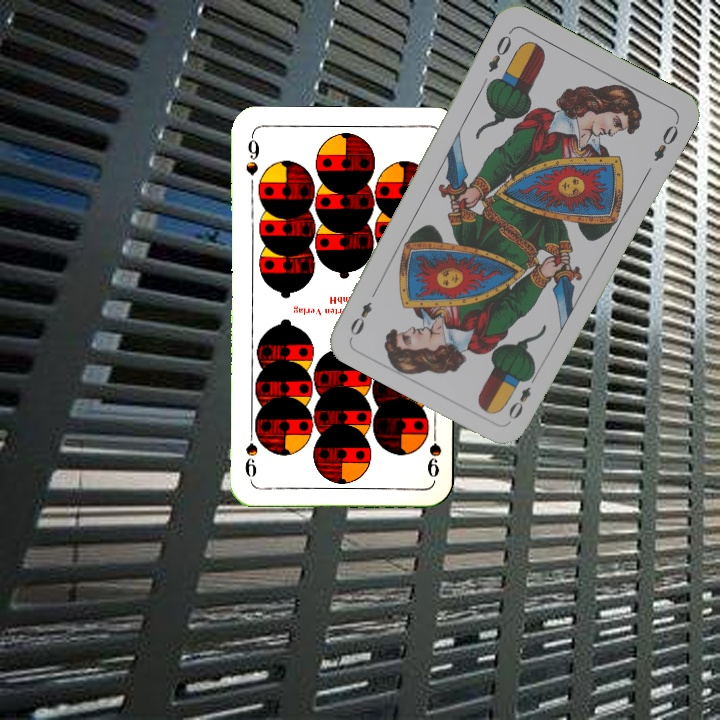EO: (504, 368, 541, 423), (484, 26, 515, 75)
S9: (423, 422, 444, 480), (241, 131, 262, 178)
